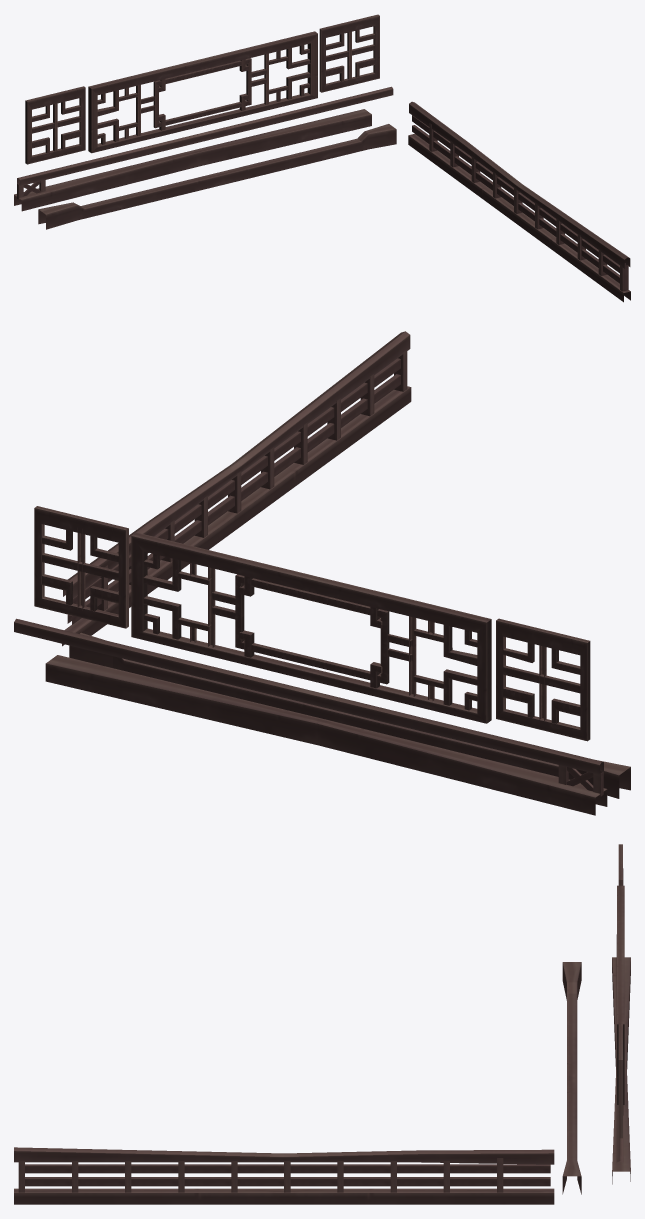
Rendered from pinjie.FBX.
3 views of the same model, one above another, from view 1: azimuth 30°, elevation 25°; view 2: azimuth 150°, elevation 25°; view 3: azimuth 270°, elevation 25° (orthographic). The views are drawn at different scales.
Visible parts, largest first — view 1: Object10, Object04, Object220, Object11, Object01; view 2: Object10, Object04, Object220, Object01, Object11, Object12; view 3: Object04, Object11, Object10, Object220.
Boxes of the visible parts, bbox=[...] form: Object10: bbox=[25, 14, 379, 164]; Object04: bbox=[408, 101, 630, 302]; Object220: bbox=[14, 109, 371, 211]; Object11: bbox=[38, 124, 396, 229]; Object01: bbox=[17, 86, 393, 185]; Object10: bbox=[34, 506, 590, 741]; Object04: bbox=[62, 331, 411, 646]; Object220: bbox=[45, 655, 607, 815]; Object01: bbox=[14, 618, 603, 774]; Object11: bbox=[69, 632, 630, 798]; Object12: bbox=[558, 765, 603, 796]; Object04: bbox=[14, 1147, 554, 1204]; Object11: bbox=[562, 962, 581, 1194]; Object10: bbox=[617, 844, 624, 1138]; Object220: bbox=[612, 957, 630, 1184].
Bounding box in the file's own units: 2132 × 2431 × 604.
